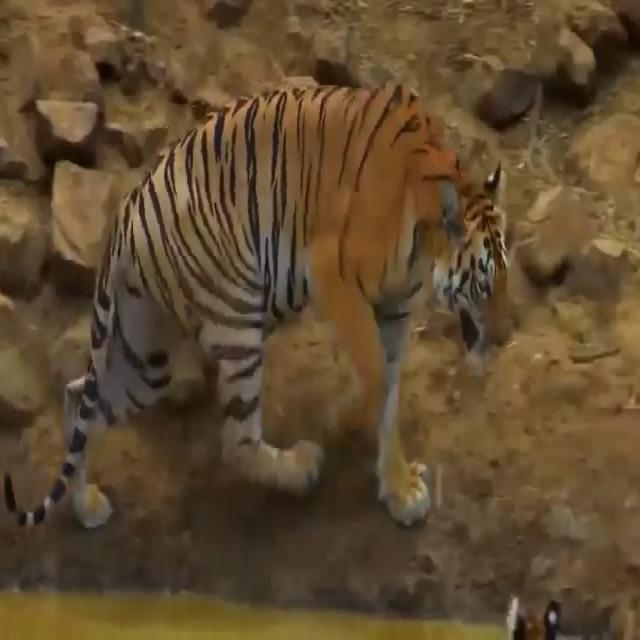tiger: (0, 73, 514, 534)
